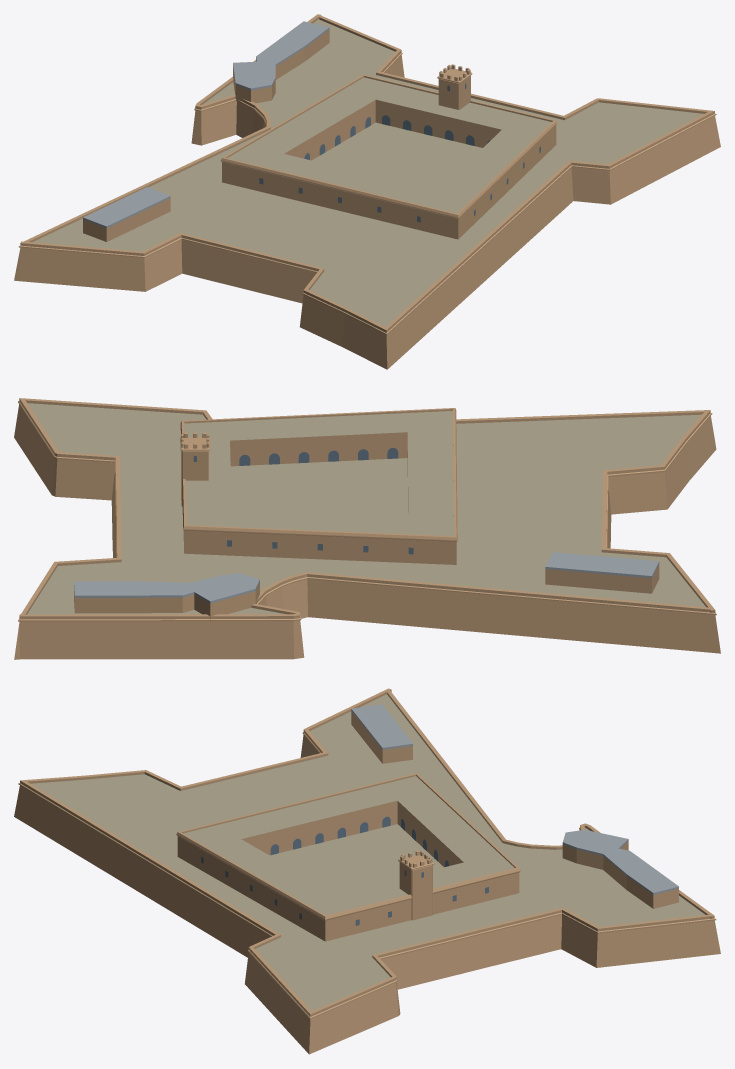
The model's file is barcelona-montjuic-castle.glb.
3 renders of one model, top to bottom at view 1: azimuth 30°, elevation 25°; view 2: azimuth 150°, elevation 25°; view 3: azimuth 270°, elevation 25°, orthographic. The views are drawn at different scales.
Parts seen in each view (by area): view 1: Castell de Montjuïc; view 2: Castell de Montjuïc; view 3: Castell de Montjuïc.
Boxes of the visible parts, box(x1,y1,x2,y2) form: Castell de Montjuïc: box(14, 14, 720, 369); Castell de Montjuïc: box(14, 398, 720, 659); Castell de Montjuïc: box(14, 688, 720, 1054).
Bounding box in the file's own units: 272 × 34.9 × 245.
